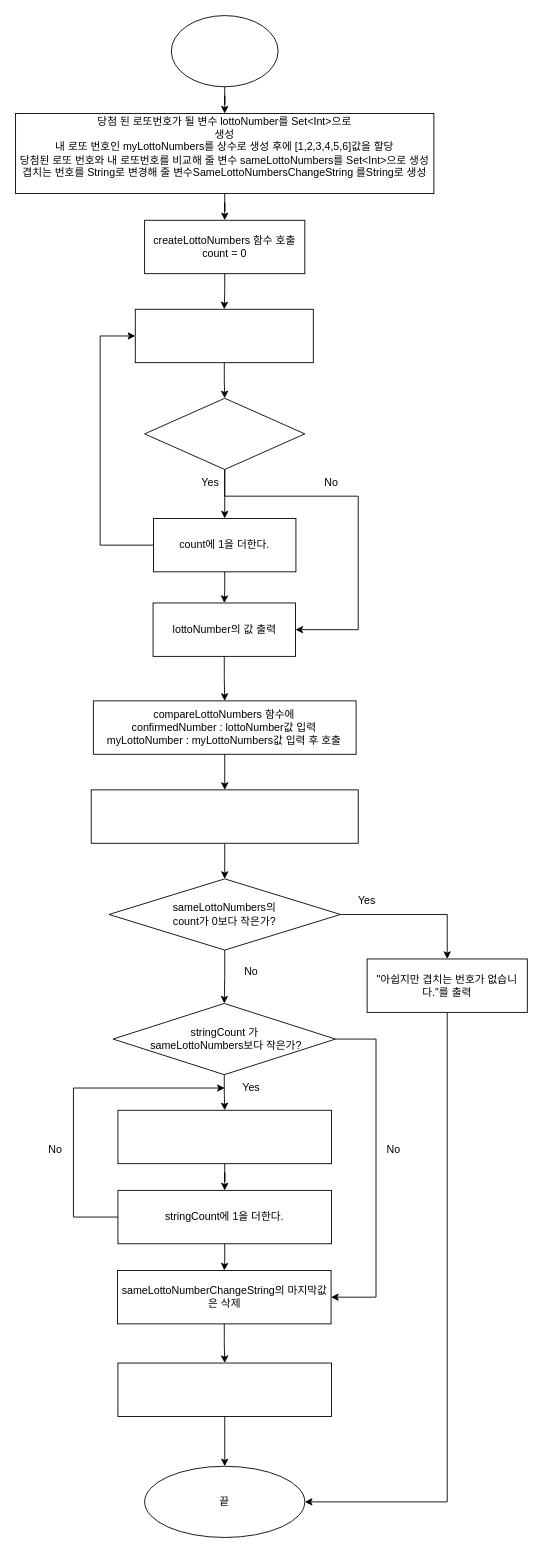
Some shapes in this 543 by 1553 pixel diagram are drawn without their labels. Here are the shapes that lost their labels. From the top down, the box of each, then its label:
(170, 15, 278, 87): 시작
(134, 308, 313, 363): lottoNumber에 1~45까지의 숫자 중 랜덤으로 숫자 1개를 값에 추가
(144, 397, 305, 469): count가 6보다 작은가?
(90, 789, 358, 843): sameLottoNumbers에 confirmedNumber과 myLottoNumber의 교집합 값을 할당
(117, 1109, 332, 1164): sameLottoNumberChangeString에 값을 String값으로 추가한다.
(117, 1362, 332, 1416): "축하합니다. 겹치는 번호 \(sameLottoNumberChangeString) 는 입니다" 출력
